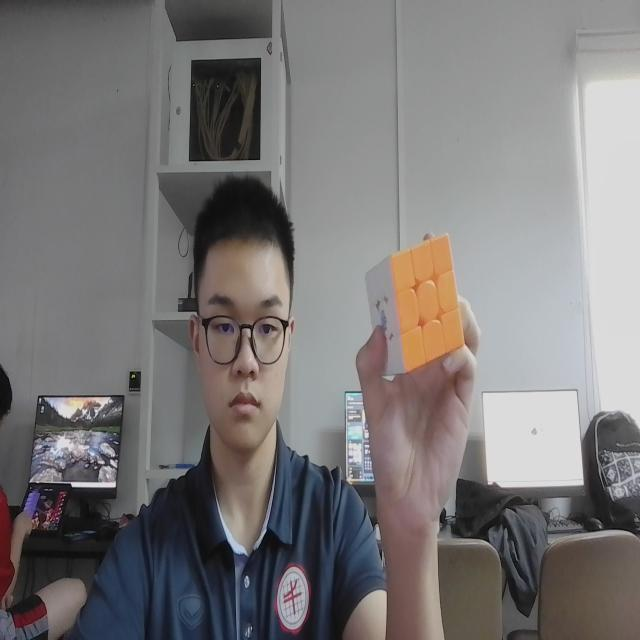rubik: (359, 223, 471, 389)
